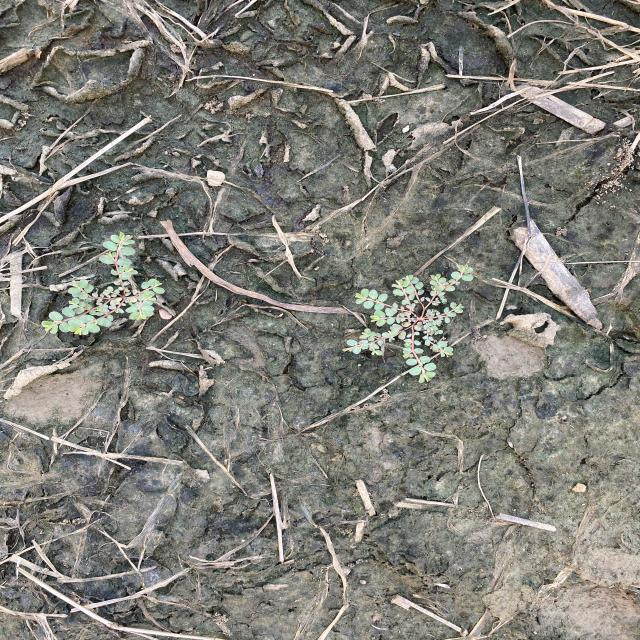SpottedSpurge: (340, 263, 479, 384), (39, 231, 167, 337)
